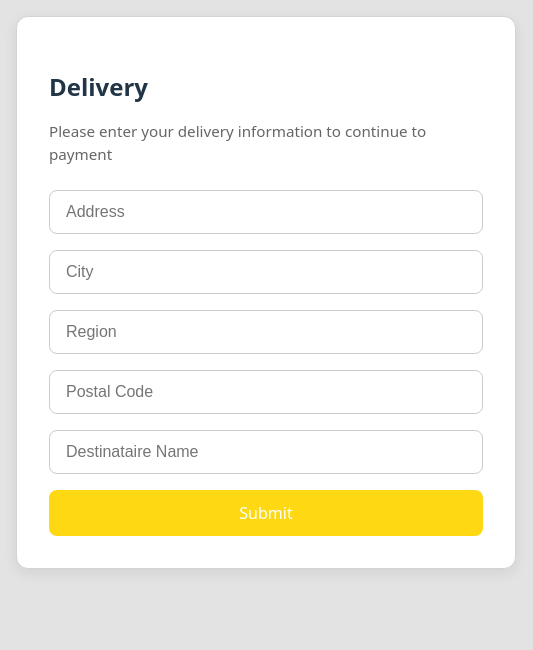
it: DeliveryForm › Form Validation › should show validation error for invalid postal code
Type "123 Main St" into the field with placeholder "Address".
click(266, 212); type("123 Main St")  # box [49,190,483,234]
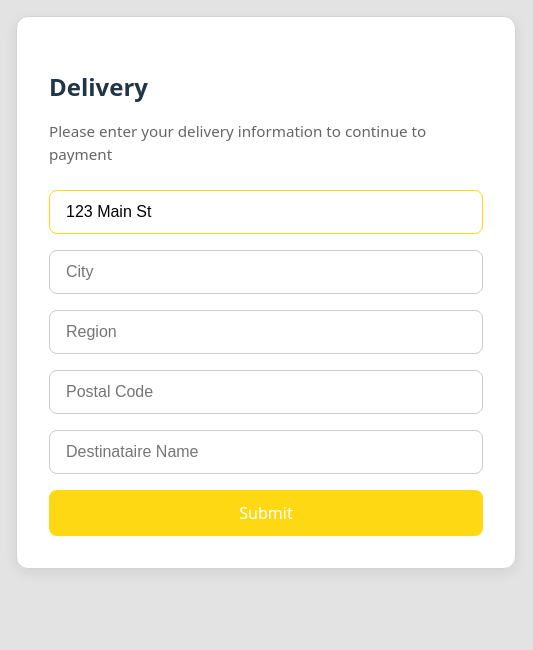
Type "Bogotá" into the field with placeholder "City".
click(266, 272); type("Bogotá")  # box [49,250,483,294]
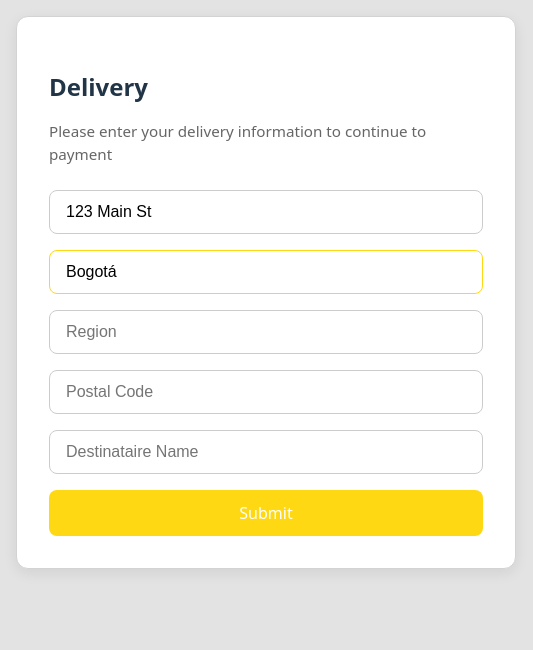
Type "Cundinamarca" into the field with placeholder "Region".
click(266, 332); type("Cundinamarca")  # box [49,310,483,354]
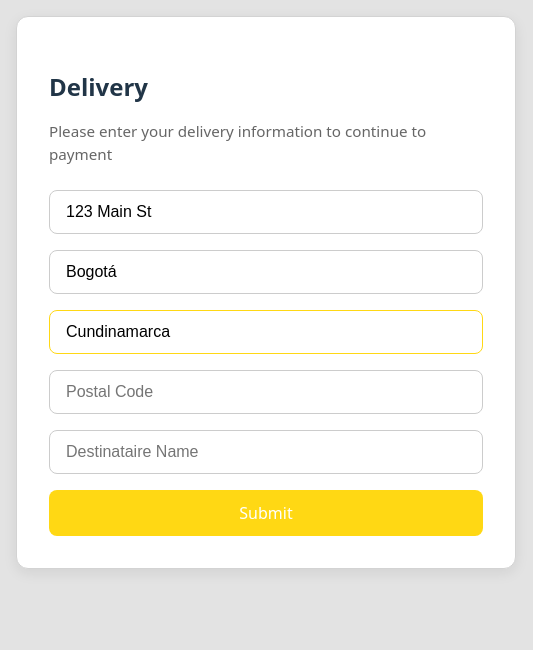
Type "invalid-postal" into the number field with placeholder "Postal Code".
click(266, 392); type("invalid-postal")  # box [49,370,483,414]
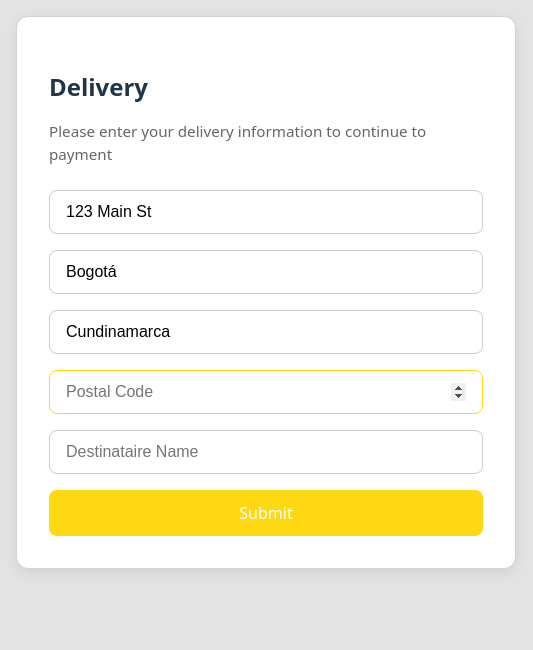
Type "John Doe" into the field with placeholder "Destinataire Name".
click(266, 452); type("John Doe")  # box [49,430,483,474]
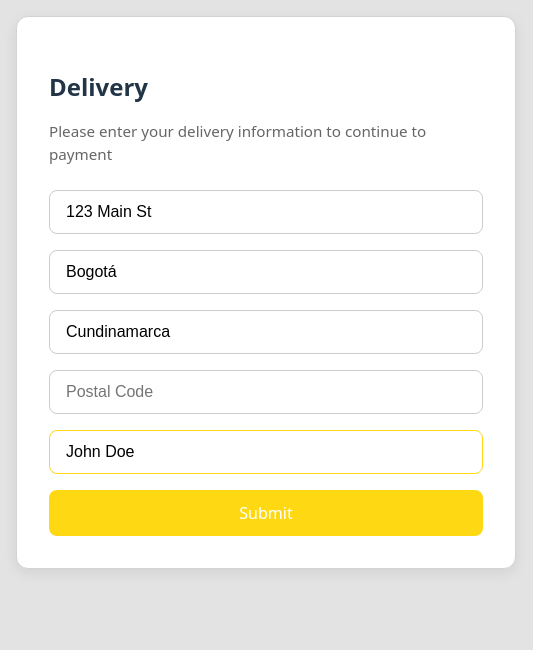
Click the button "Submit".
click(266, 513)  # box [49,490,483,536]
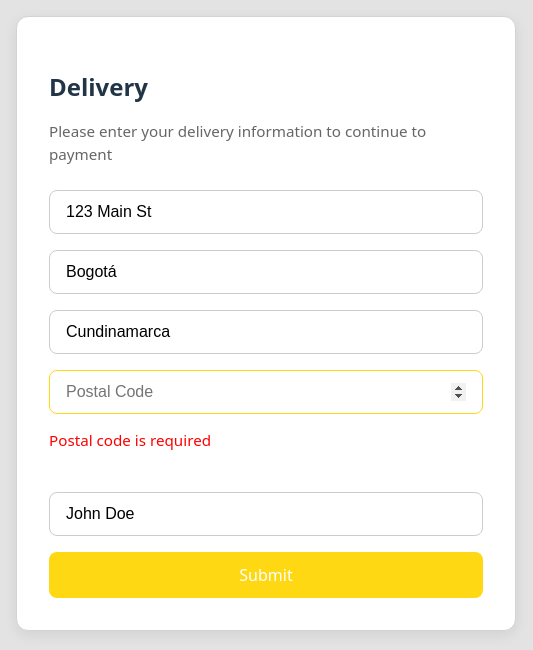
expect the text "Postal code is required" is shown: met, box [49,430,211,450]
